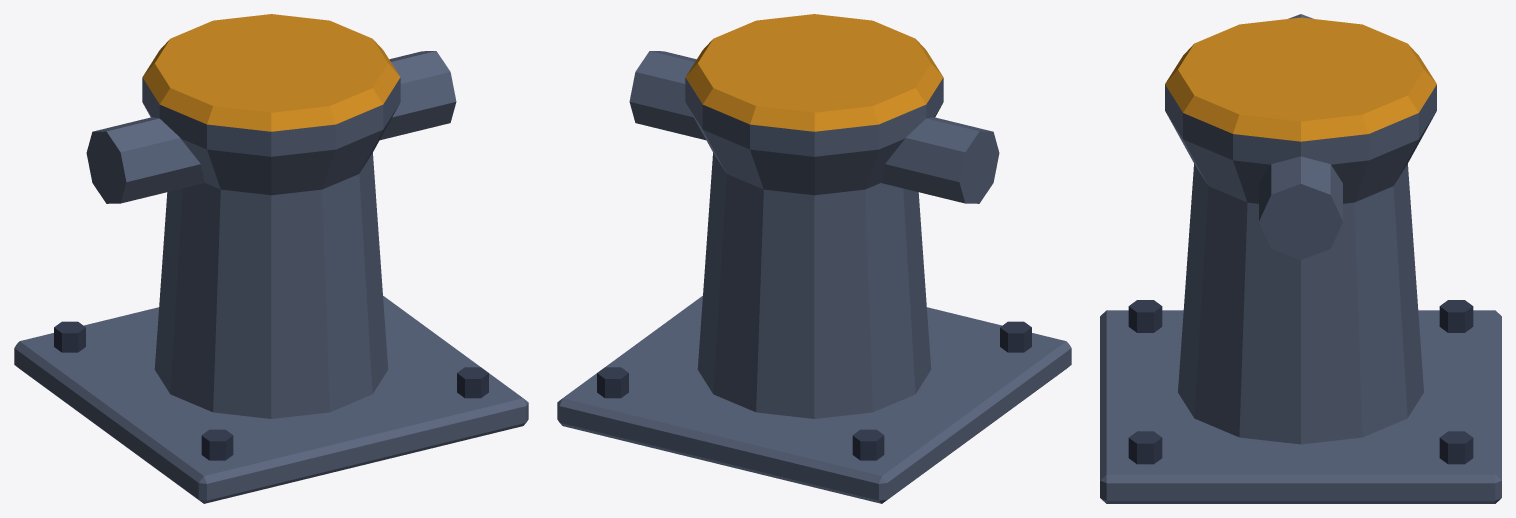
File: port_bollard.glb
The picture shows the model from 3 angles, left to right: view 1: azimuth 30°, elevation 25°; view 2: azimuth 150°, elevation 25°; view 3: azimuth 270°, elevation 25°; orthographic projection. The views are drawn at different scales.
Parts seen in each view (by area): view 1: bollard, head_cap, anchor_bolt; view 2: bollard, head_cap, anchor_bolt; view 3: bollard, head_cap, anchor_bolt.
Boxes of the visible parts, x1=… form: bollard: x1=14, y1=51, x2=528, y2=503; head_cap: x1=142, y1=14, x2=400, y2=131; anchor_bolt: x1=54, y1=321, x2=488, y2=460; bollard: x1=557, y1=51, x2=1071, y2=503; head_cap: x1=685, y1=14, x2=943, y2=131; anchor_bolt: x1=597, y1=321, x2=1031, y2=460; bollard: x1=1100, y1=14, x2=1501, y2=503; head_cap: x1=1165, y1=17, x2=1436, y2=141; anchor_bolt: x1=1128, y1=300, x2=1473, y2=464.
Bounding box in the file's own units: 0.62 × 0.6 × 0.62.
